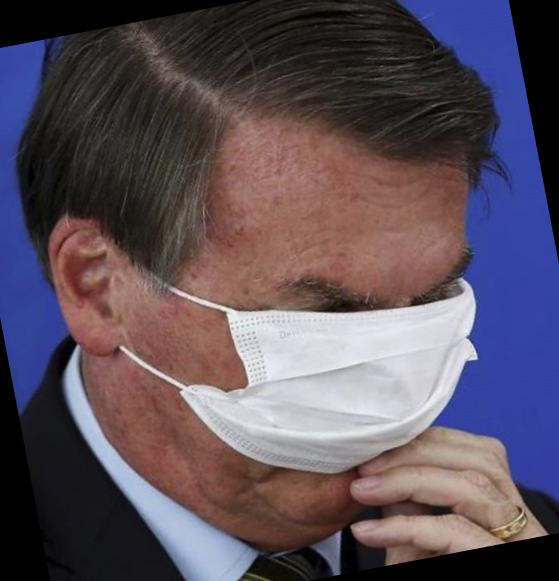mask_weared_incorrect: (171, 188, 550, 568)
